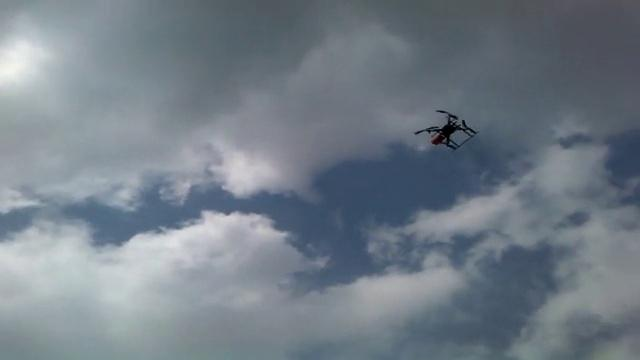drone: (410, 106, 480, 153)
